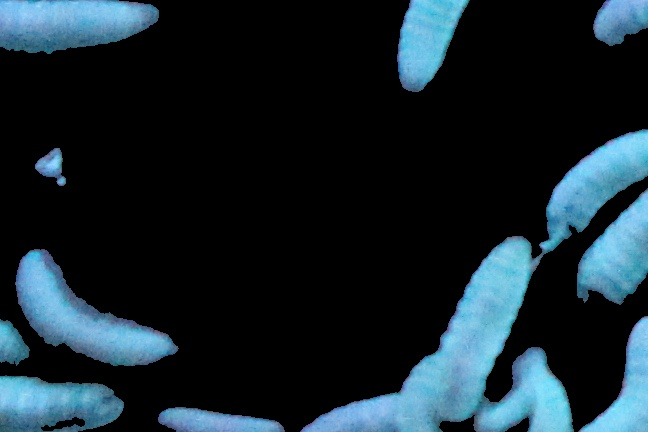larvae: (16, 252, 174, 365), (440, 229, 525, 423), (543, 124, 647, 233), (576, 307, 648, 432), (1, 1, 167, 53), (578, 185, 648, 305), (1, 373, 125, 432), (394, 1, 469, 92), (394, 346, 447, 432), (159, 399, 287, 432), (301, 392, 403, 432), (529, 368, 574, 432)
